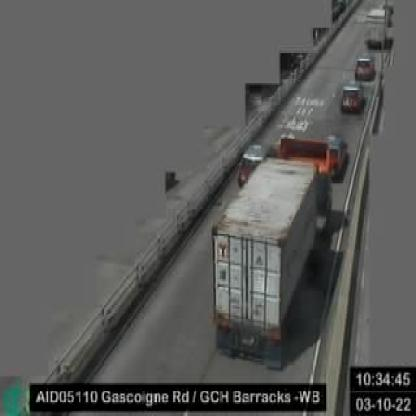Car: (340, 80, 362, 111), (355, 55, 376, 78)
Truck: (213, 135, 329, 361)
